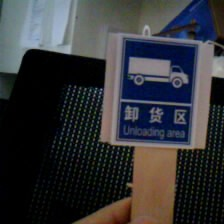unload: (111, 32, 195, 150)
